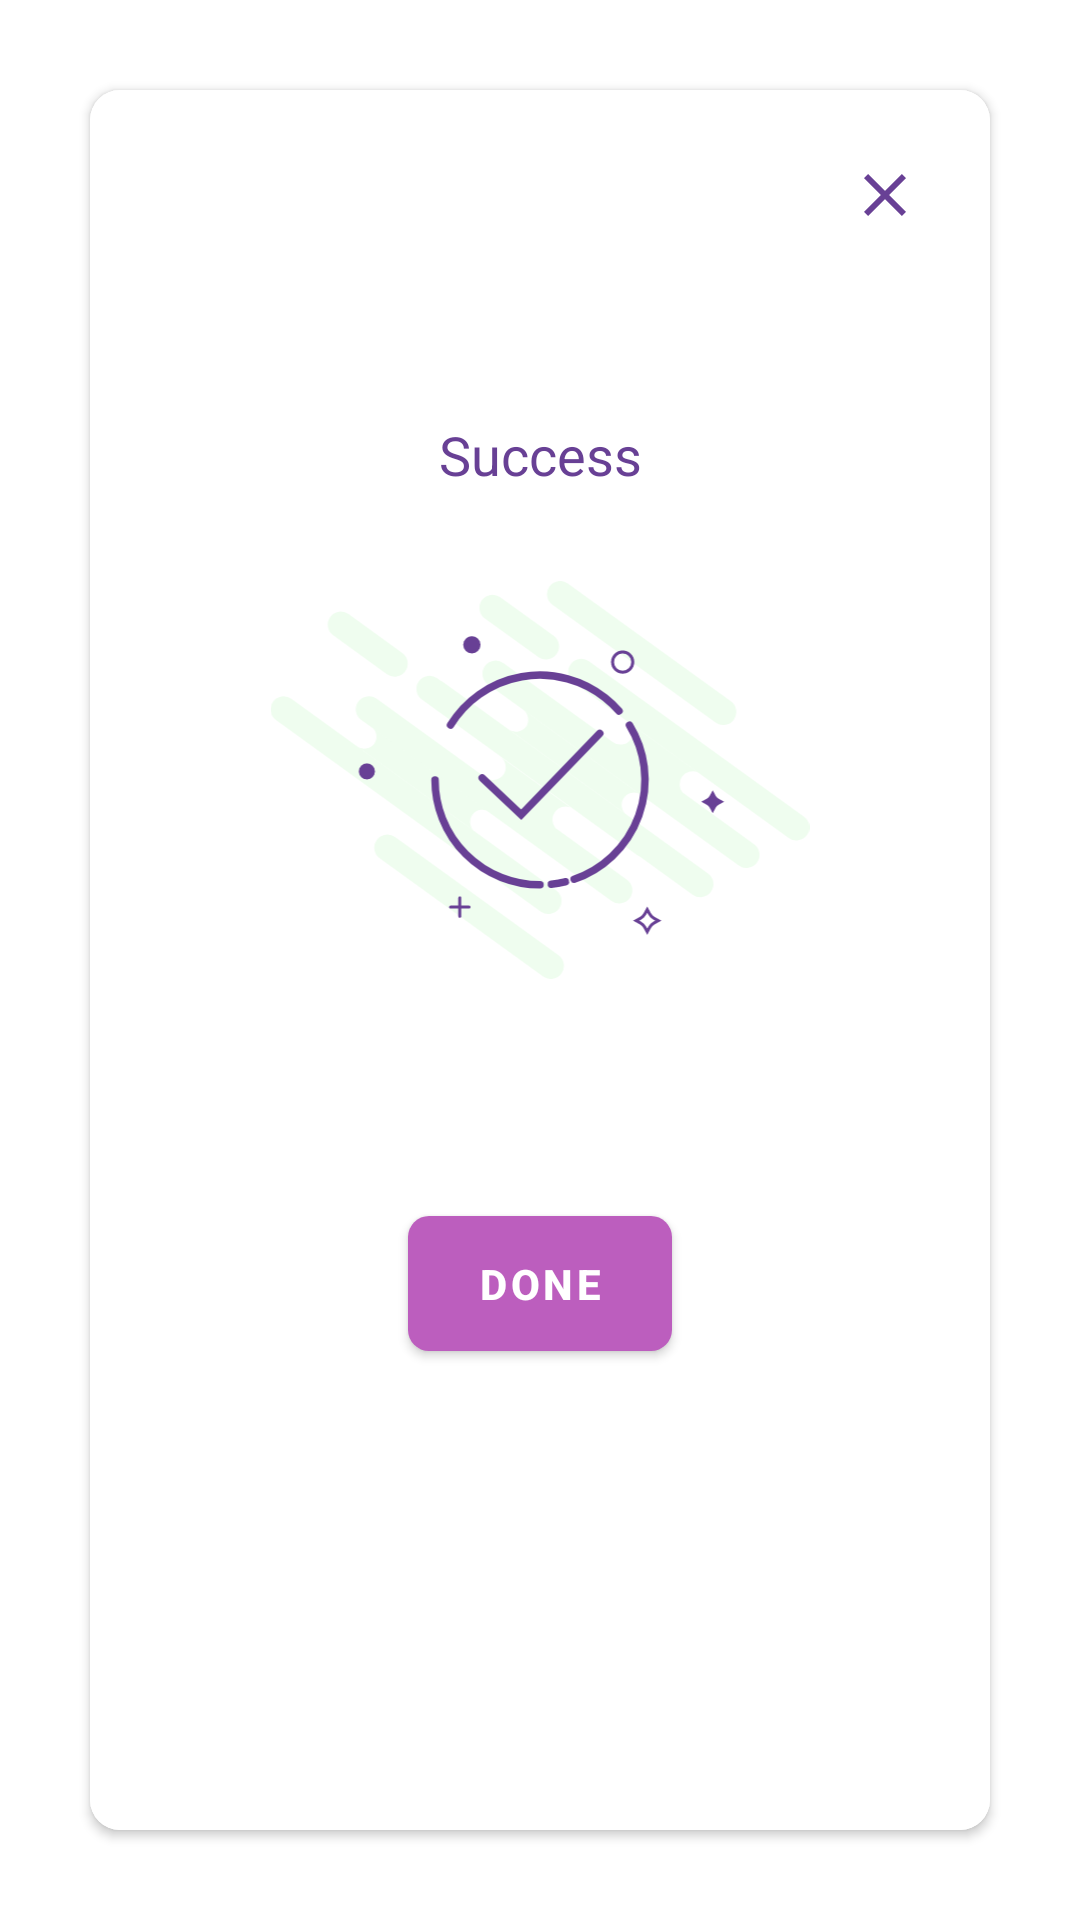

Point at icon controls on the screen. Image size 1080px x 1920px, points as (x,y).
close: (885,195)
